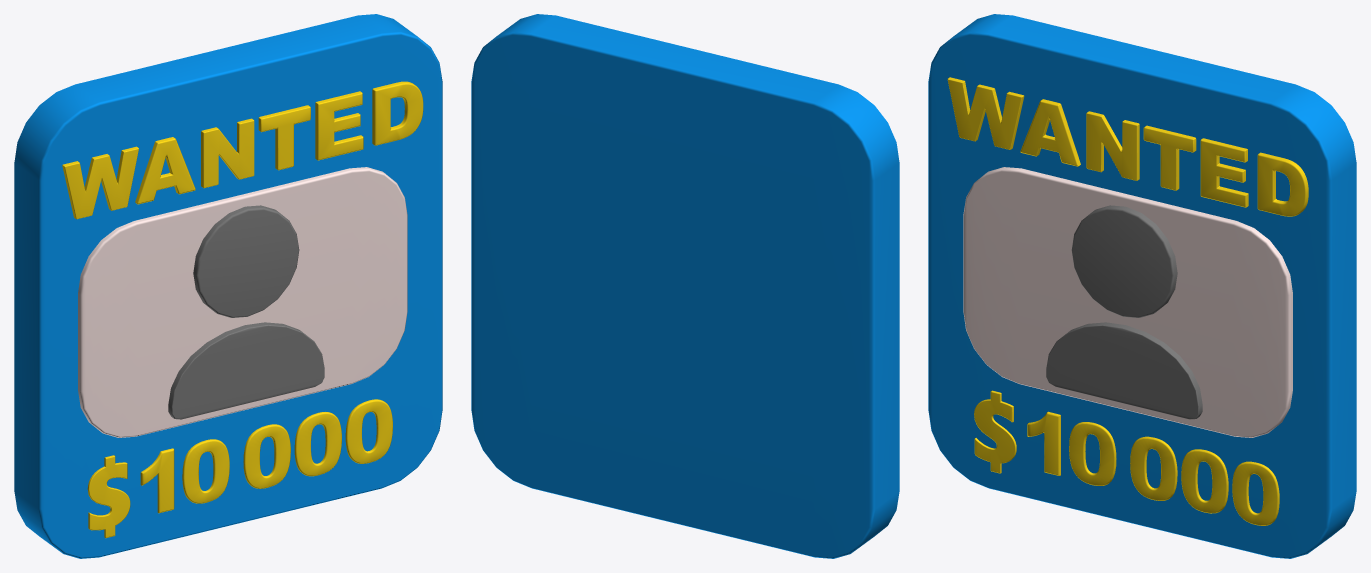
Rendered from Public_16_Poster_Wanted_3.glb.
3 renders of one model, left to right at view 1: azimuth 30°, elevation 25°; view 2: azimuth 150°, elevation 25°; view 3: azimuth 330°, elevation 25°, orthographic.
Parts seen in each view (by area): view 1: Public_16_Poster_Wanted_3; view 2: Public_16_Poster_Wanted_3; view 3: Public_16_Poster_Wanted_3.
Part boxes in pixels (bbox=[...]): Public_16_Poster_Wanted_3: bbox=[14, 14, 442, 558]; Public_16_Poster_Wanted_3: bbox=[471, 14, 899, 558]; Public_16_Poster_Wanted_3: bbox=[928, 14, 1356, 558].
Bounding box in the file's own units: 1.02 × 1.1 × 0.1471.
Materials: 1 (1 with a texture image).
